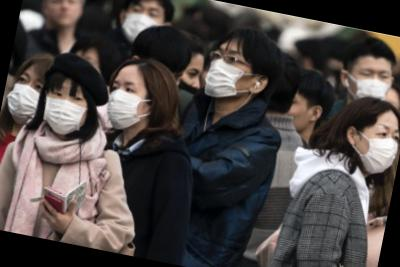with_mask: (38, 84, 94, 141), (2, 68, 50, 132), (100, 77, 152, 135), (201, 44, 249, 102), (357, 121, 400, 180), (119, 0, 168, 49), (351, 63, 395, 107)
